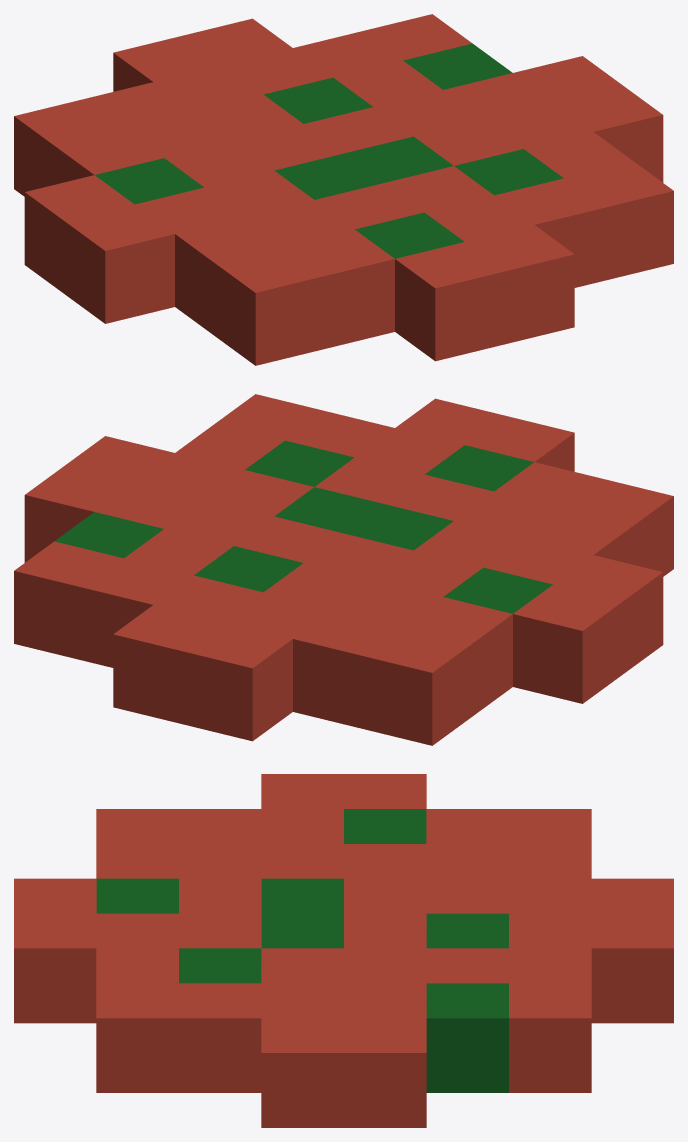
The model's file is soup.glb.
The picture shows the model from 3 angles, top to bottom: view 1: azimuth 30°, elevation 25°; view 2: azimuth 150°, elevation 25°; view 3: azimuth 270°, elevation 25°; orthographic projection. The views are drawn at different scales.
Parts seen in each view (by area): view 1: body:foodPortion; view 2: body:foodPortion; view 3: body:foodPortion.
Part boxes in pixels (x1=…): body:foodPortion: x1=14, y1=14, x2=673, y2=365; body:foodPortion: x1=14, y1=394, x2=673, y2=745; body:foodPortion: x1=14, y1=774, x2=673, y2=1127.
Bounding box in the file's own units: 0.08 × 0.01 × 0.08.
